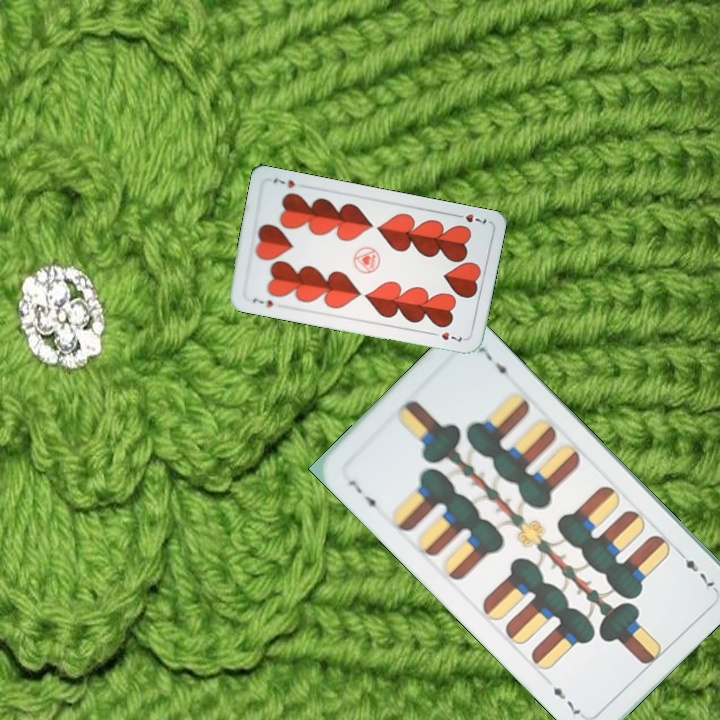E7: (673, 546, 718, 593), (345, 476, 382, 516)
H7: (450, 209, 489, 227), (249, 294, 276, 310)
